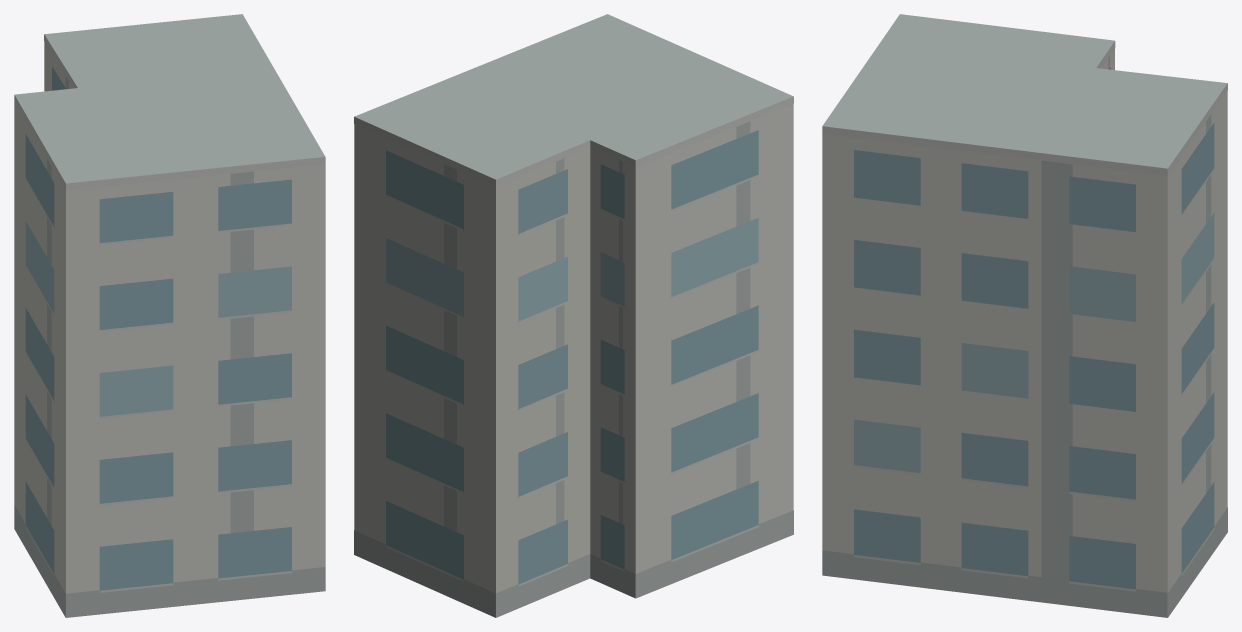
File: survey-upis-32798946.glb
3 renders of one model, left to right at view 1: azimuth 30°, elevation 25°; view 2: azimuth 150°, elevation 25°; view 3: azimuth 270°, elevation 25°, orthographic. The views are drawn at different scales.
Parts seen in each view (by area): view 1: survey-upis-32798946.tmp; view 2: survey-upis-32798946.tmp; view 3: survey-upis-32798946.tmp.
Part boxes in pixels (bbox=[...]): survey-upis-32798946.tmp: bbox=[14, 14, 325, 617]; survey-upis-32798946.tmp: bbox=[354, 14, 793, 617]; survey-upis-32798946.tmp: bbox=[822, 14, 1227, 617].
Bounding box in the file's own units: 10.8 × 14.62 × 11.96.
